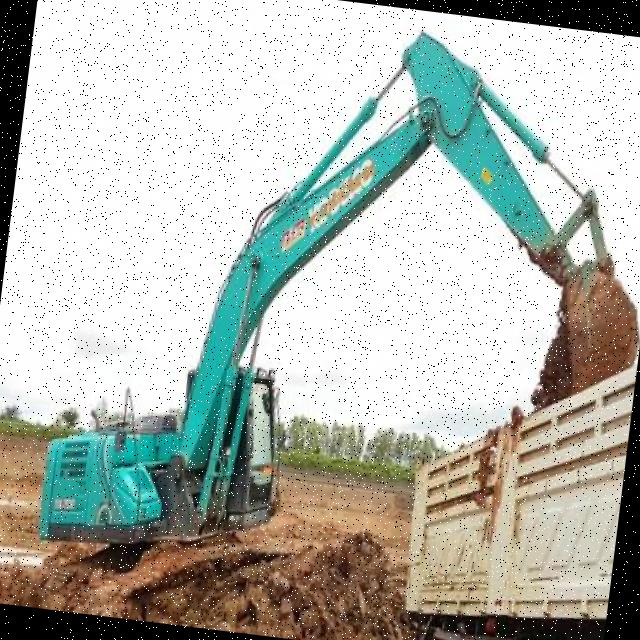Dump Truck: (390, 264, 640, 640)
Excavator: (23, 0, 640, 640)
